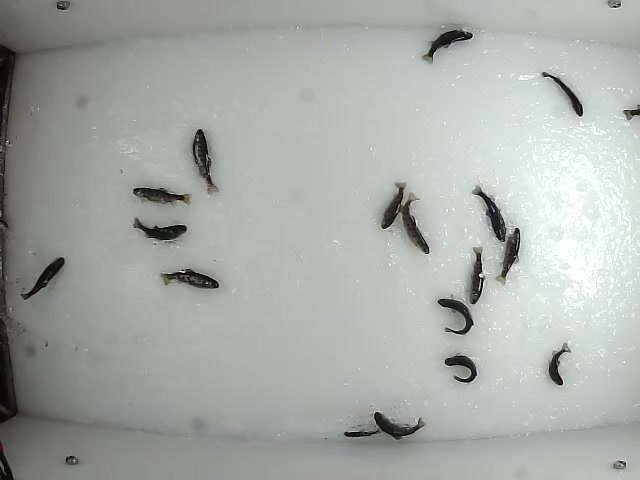fish: (187, 127, 222, 199), (19, 253, 67, 302), (537, 69, 584, 119), (470, 185, 508, 246), (397, 191, 431, 255), (419, 27, 474, 66), (492, 226, 522, 286), (132, 214, 189, 243), (372, 410, 424, 441), (435, 295, 474, 336), (130, 181, 193, 206), (380, 179, 411, 229), (157, 269, 221, 291), (467, 246, 488, 305), (442, 351, 477, 384), (546, 343, 572, 387), (340, 424, 382, 438)
